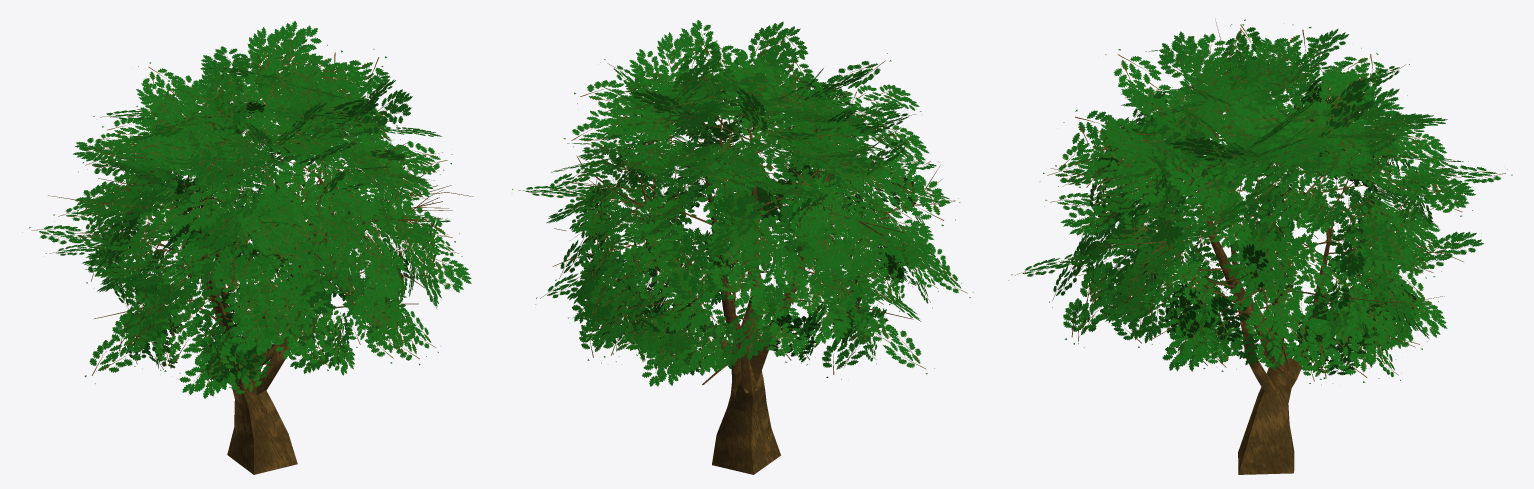
File: RobleAndino.fbx
3 views of the same model, side by side, from view 1: azimuth 30°, elevation 25°; view 2: azimuth 150°, elevation 25°; view 3: azimuth 270°, elevation 25° (orthographic). The views are drawn at different scales.
Parts seen in each view (by area): view 1: polySurface262; view 2: polySurface262; view 3: polySurface262.
Part boxes in pixels (<box>): polySurface262: <box>22,21,473,474</box>; polySurface262: <box>512,20,973,474</box>; polySurface262: <box>1008,19,1512,474</box>.
Bounding box in the file's own units: 1459 × 1400 × 1582.
